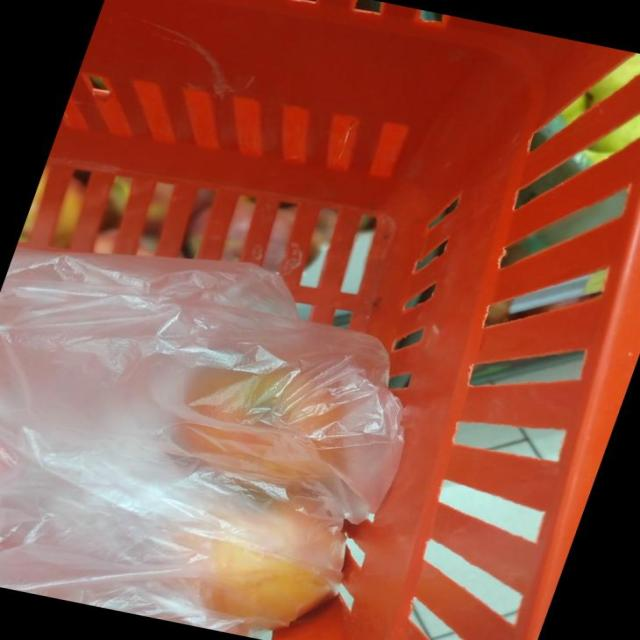Apple: (171, 365, 346, 481), (199, 503, 343, 627)
